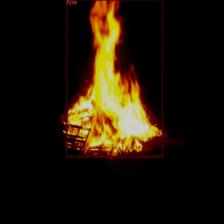fire: (66, 0, 163, 157)
